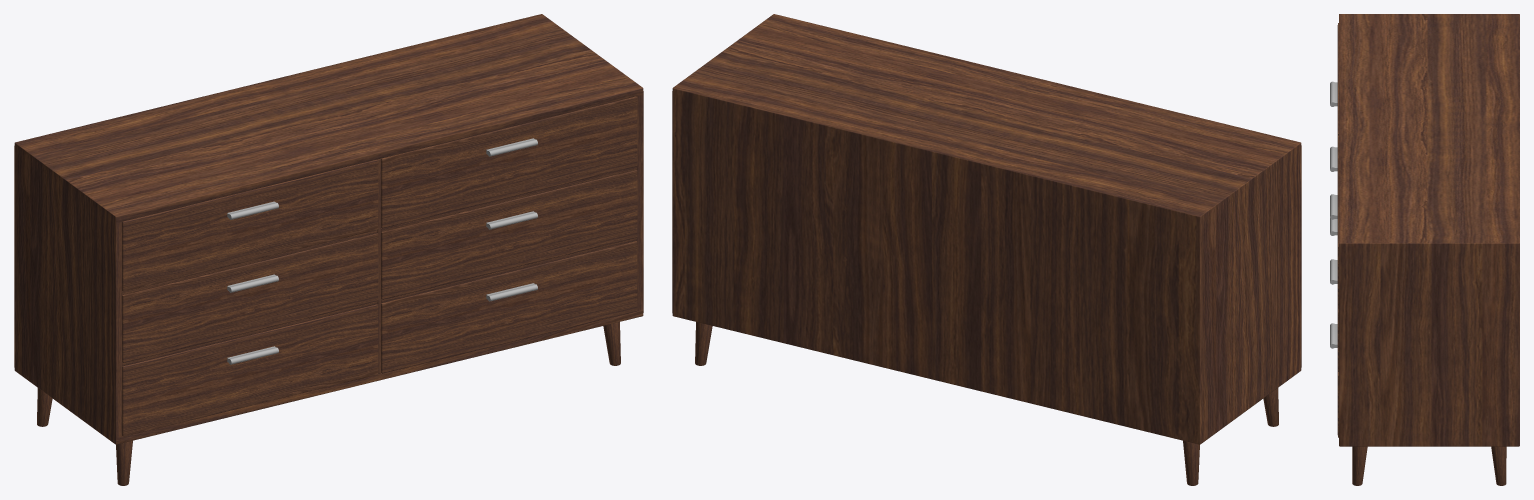
Rendered from Dresser.gltf.
3 renders of one model, left to right at view 1: azimuth 30°, elevation 25°; view 2: azimuth 150°, elevation 25°; view 3: azimuth 270°, elevation 25°, orthographic. The views are drawn at different scales.
Visible parts, largest first — view 1: Cube.011, Cube.002, Cube.004, Cube.000, Cube.003, Cube.019, Cube.001, Cube.018, Cube.005, Cube.006, Cube.007, Cube.020; view 2: Cube.011; view 3: Cube.011, Cylinder.014, Cylinder.017, Cube.003, Cube.000.
Part boxes in pixels (left/top/right/bottom): Cube.011: left=14, top=14, right=643, bottom=444; Cube.002: left=122, top=304, right=378, bottom=436; Cube.004: left=381, top=241, right=637, bottom=373; Cube.000: left=122, top=159, right=378, bottom=291; Cube.003: left=381, top=96, right=637, bottom=228; Cube.019: left=381, top=169, right=637, bottom=299; Cube.001: left=122, top=233, right=378, bottom=362; Cube.018: left=122, top=301, right=377, bottom=366; Cube.005: left=122, top=230, right=377, bottom=294; Cube.006: left=381, top=166, right=636, bottom=231; Cube.007: left=381, top=238, right=636, bottom=302; Cube.020: left=377, top=158, right=381, bottom=373; Cube.011: left=672, top=14, right=1301, bottom=444; Cube.011: left=1339, top=14, right=1519, bottom=446; Cylinder.014: left=1491, top=446, right=1506, bottom=485; Cylinder.017: left=1352, top=446, right=1367, bottom=485; Cube.003: left=1337, top=135, right=1338, bottom=308; Cube.000: left=1337, top=23, right=1338, bottom=137.
Bounding box in the file's own units: 1.5 × 0.7577 × 0.5245.
2 materials, 1 textured.
